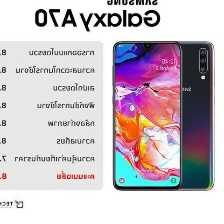phone: (109, 36, 184, 194), (145, 38, 215, 193)
